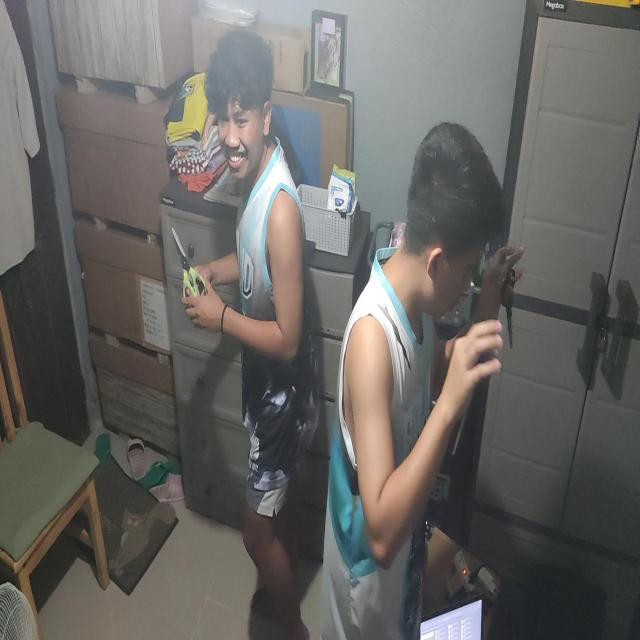scissor: (170, 218, 210, 318), (499, 266, 520, 354)
